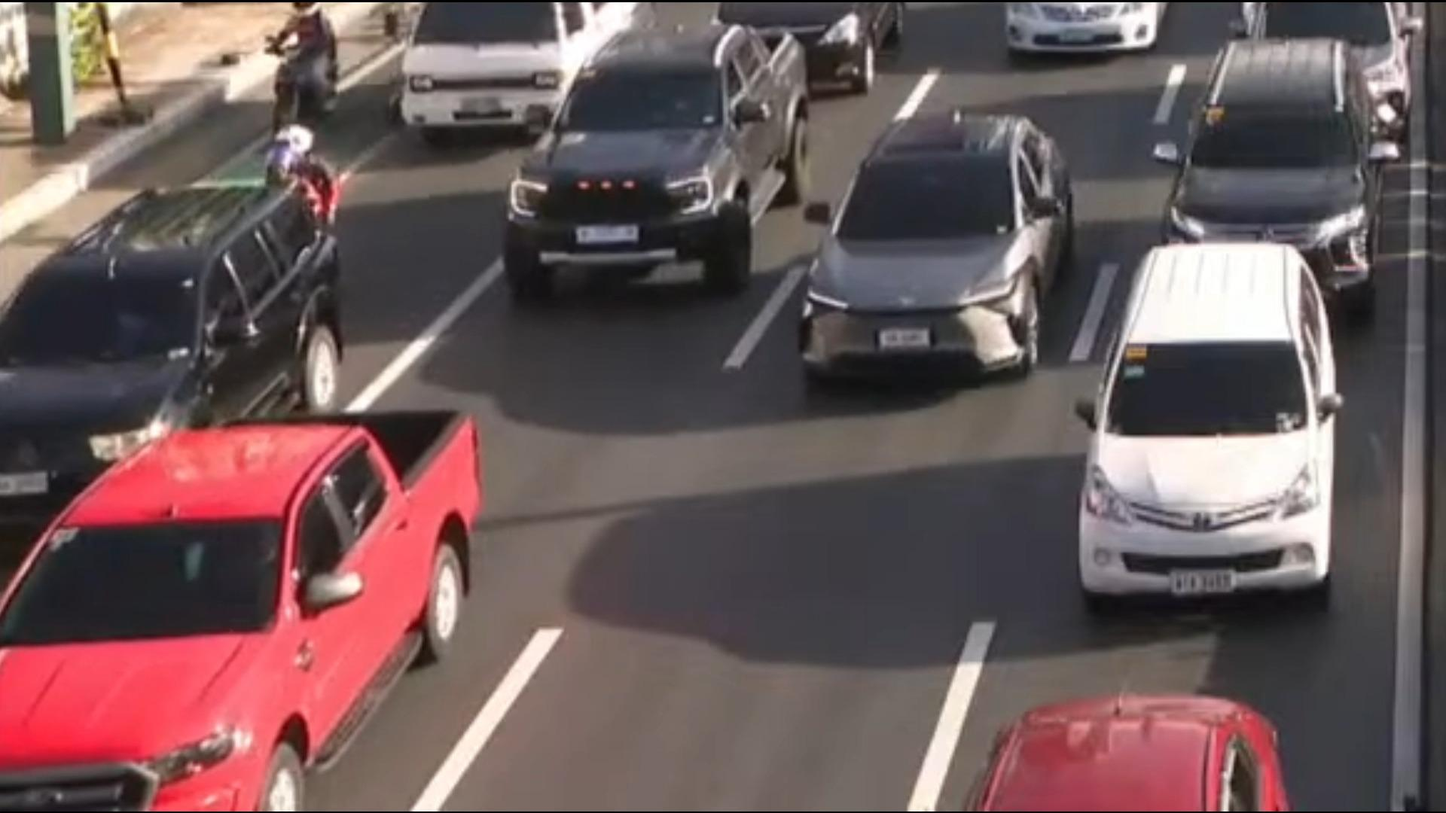Motorcycle: (268, 4, 358, 136)
Pickup: (0, 398, 495, 813), (504, 14, 807, 304)
SUV: (0, 176, 343, 513), (1069, 236, 1343, 612), (797, 94, 1086, 398), (1156, 36, 1394, 268)
